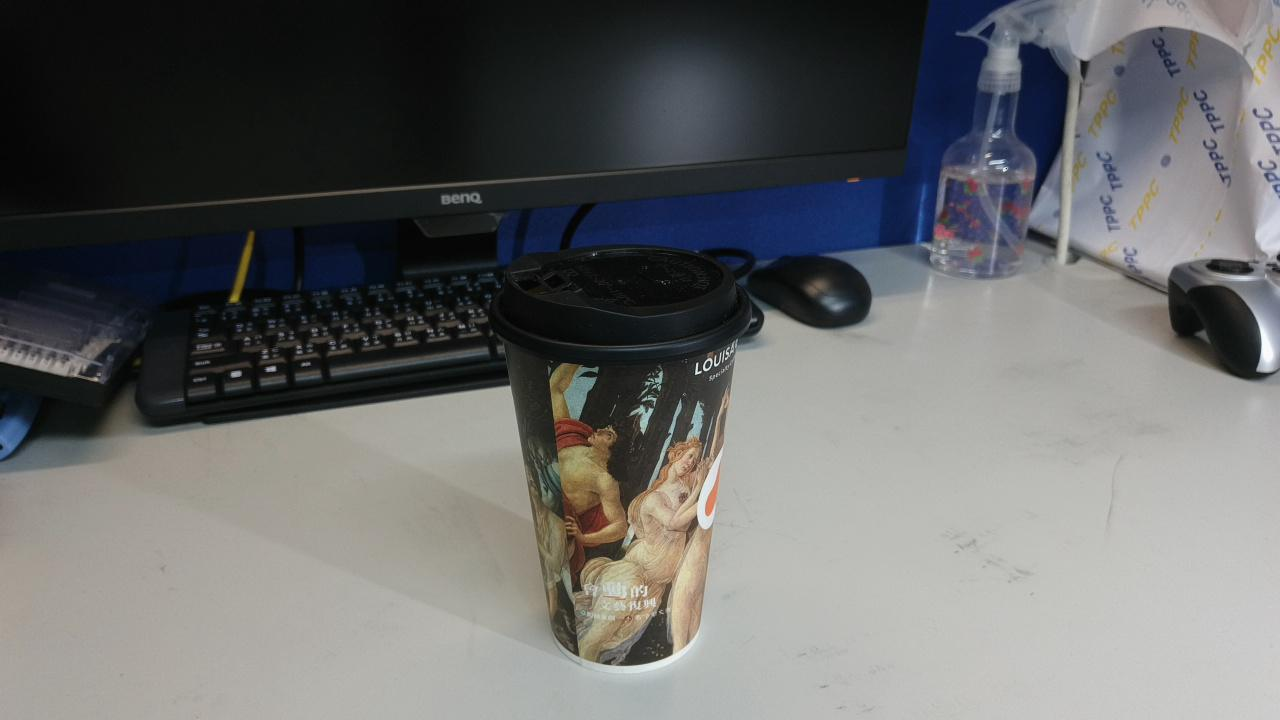long: (791, 397, 1094, 534)
